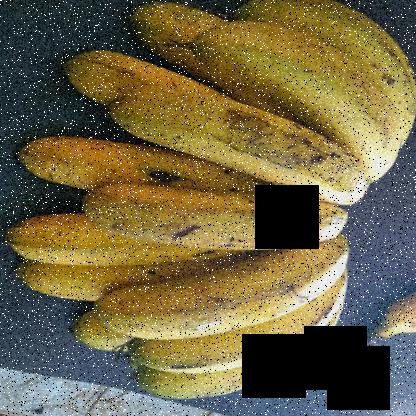ripe: (83, 92, 388, 201), (199, 23, 395, 187), (104, 224, 361, 336), (144, 259, 374, 375), (90, 182, 403, 255), (7, 218, 183, 267)
